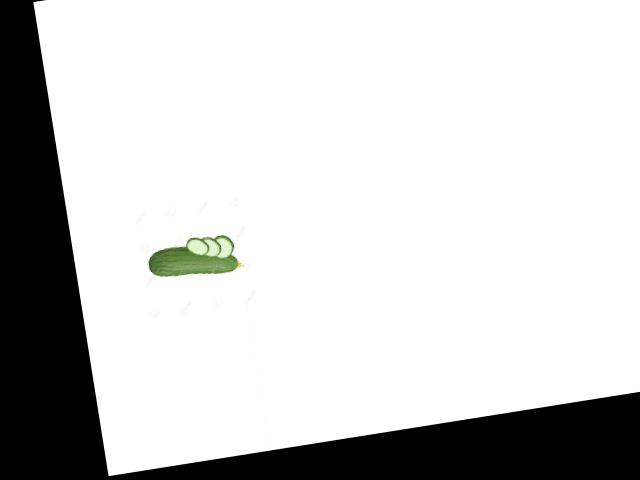cucumber: (145, 236, 244, 284)
